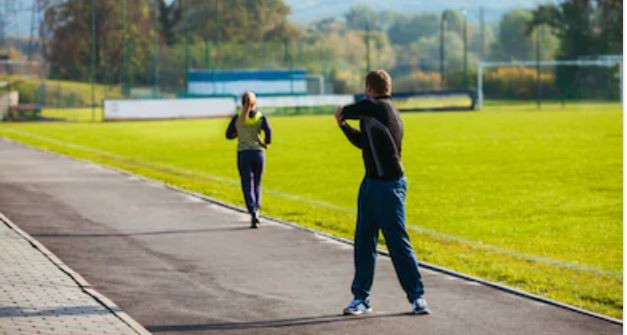Good: (221, 68, 435, 320)
